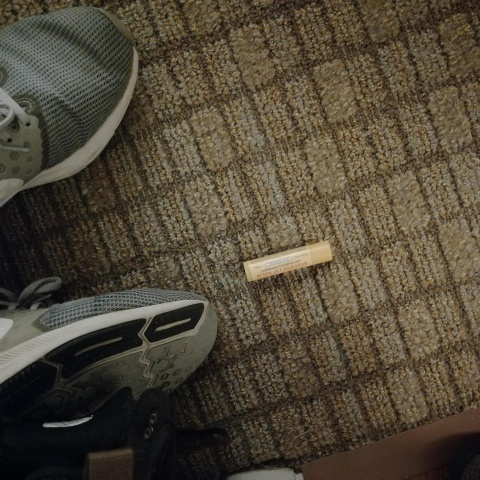chapstick: (242, 240, 334, 283)
